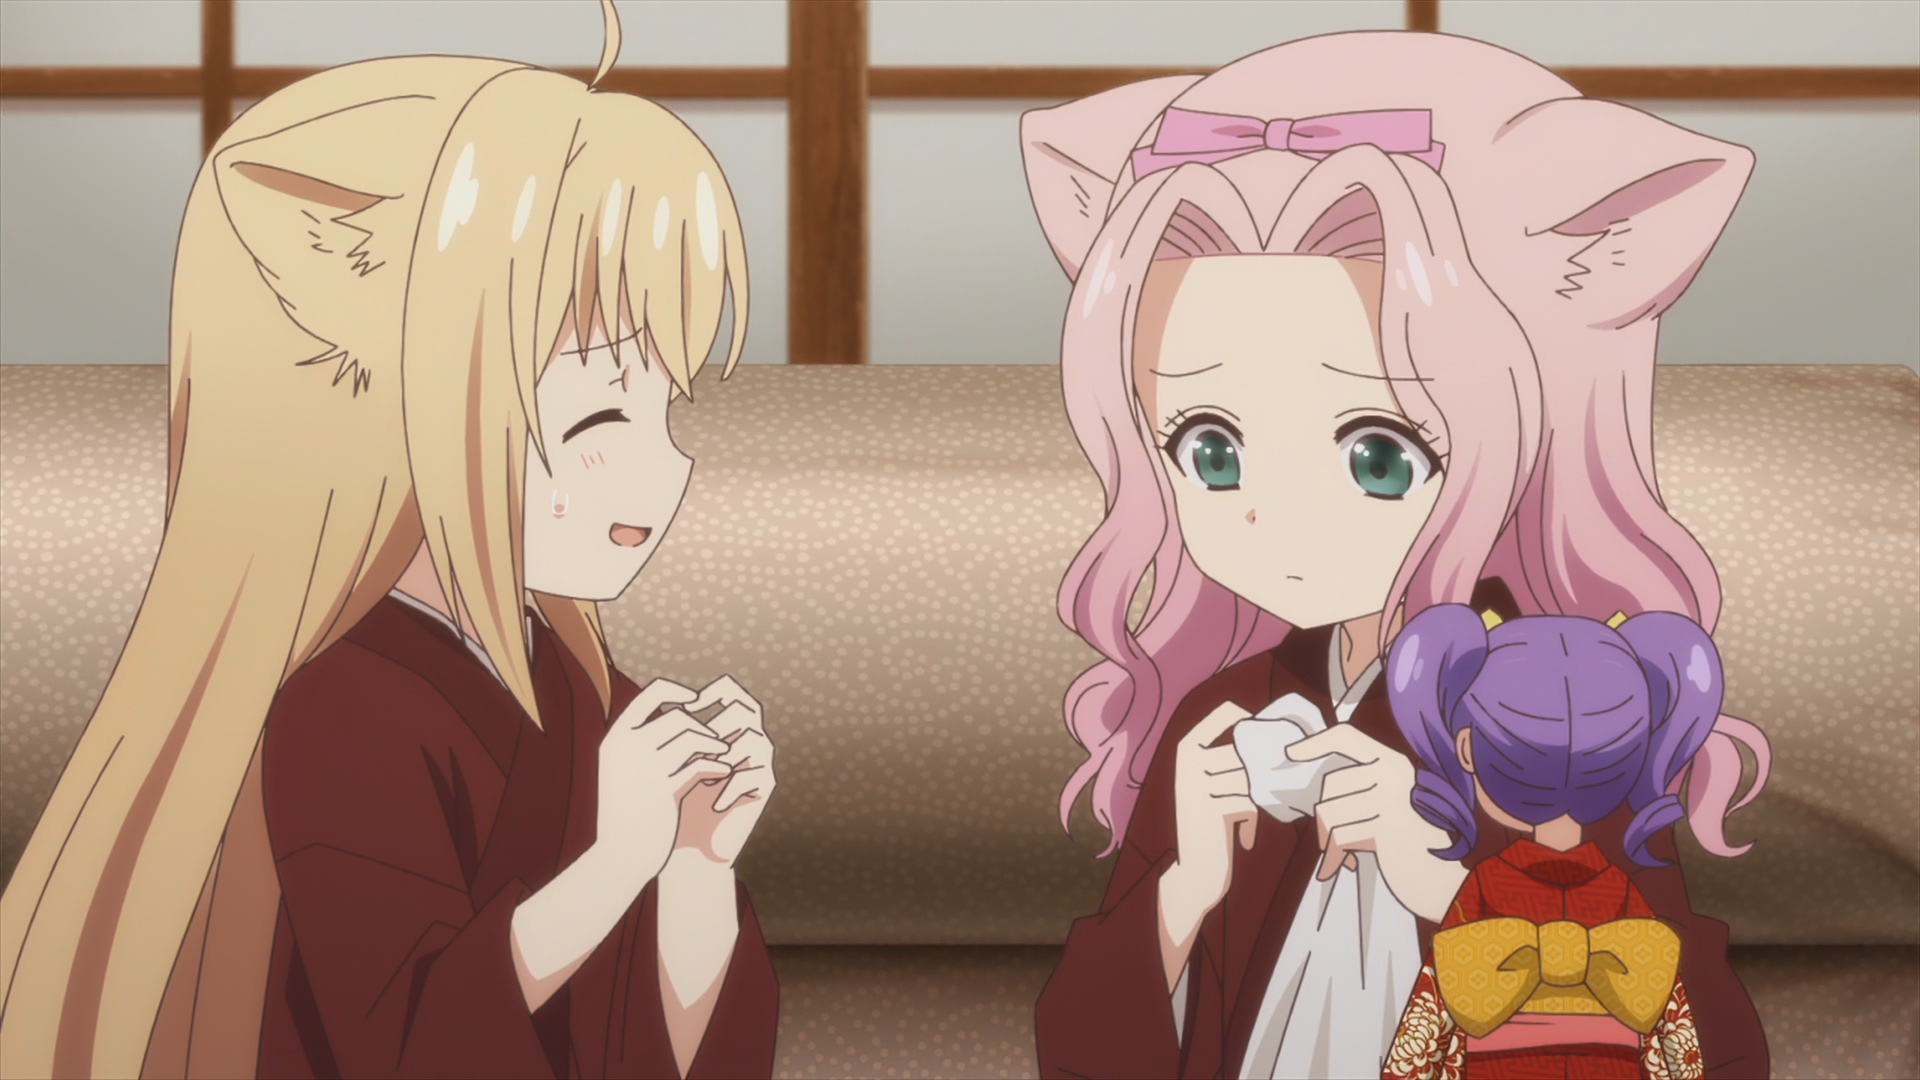柚: (1, 1, 779, 1080)
莲: (1019, 29, 1771, 1080)
阿菊: (1381, 605, 1724, 1080)
